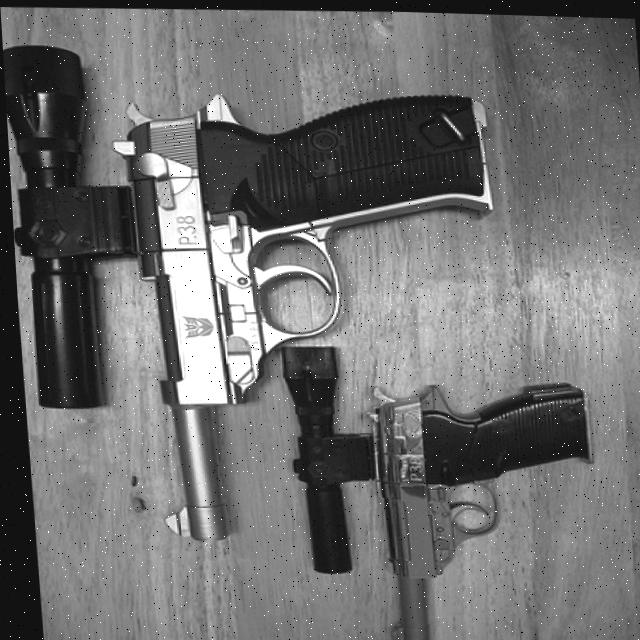pistol: (2, 34, 515, 552), (270, 337, 600, 640)
